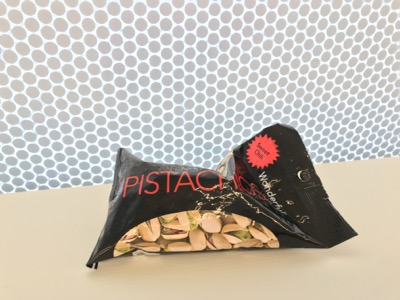pistachio: (89, 123, 359, 266)
